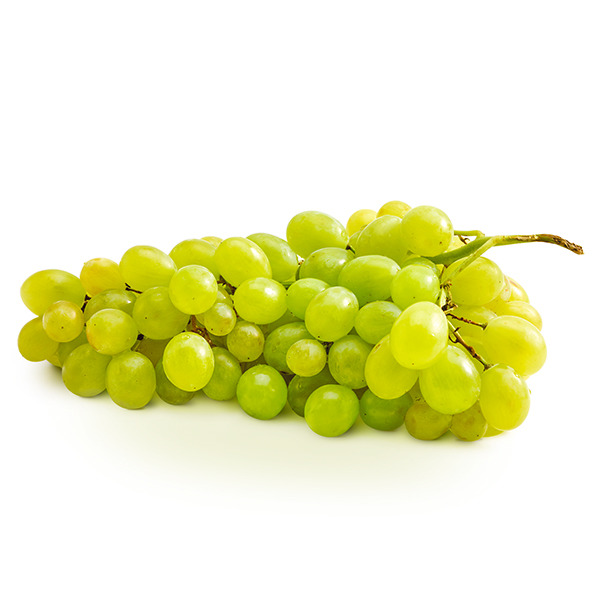Green grapes: (20, 208, 561, 431)
